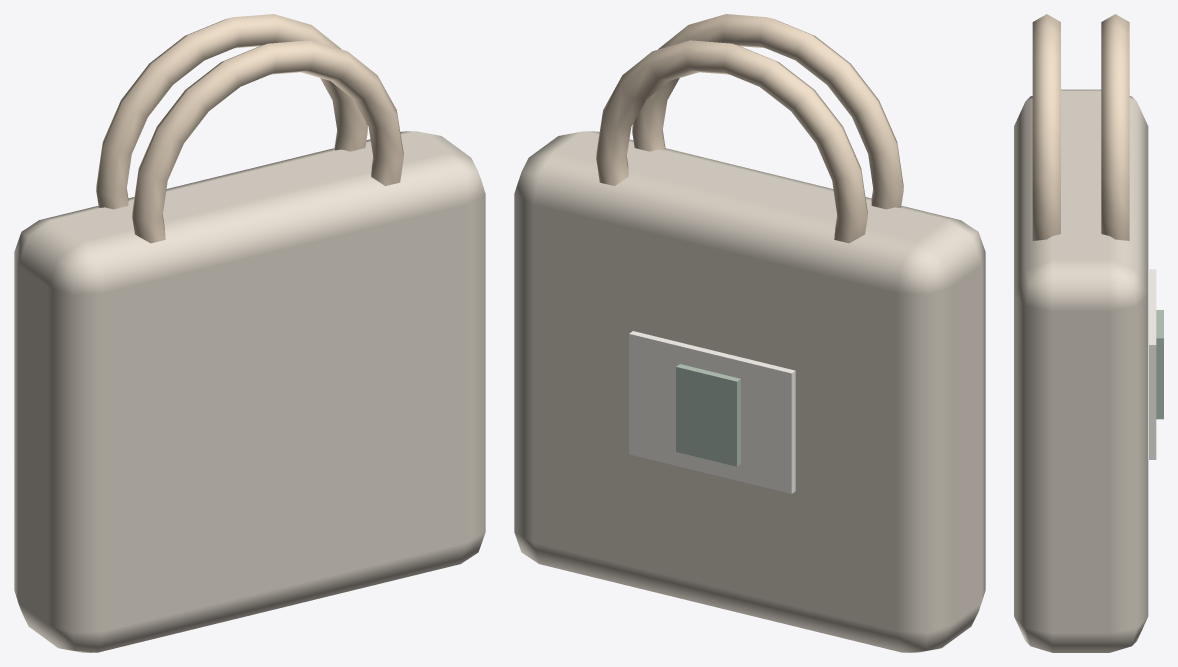
The model's file is tote.glb.
The picture shows the model from 3 angles, left to right: view 1: azimuth 30°, elevation 25°; view 2: azimuth 150°, elevation 25°; view 3: azimuth 270°, elevation 25°; orthographic projection. The views are drawn at different scales.
Parts seen in each view (by area): view 1: tote.material0, tote.material1; view 2: tote.material0, tote.material1, tote.material2, tote.material3; view 3: tote.material0, tote.material1, tote.material2, tote.material3.
Boxes of the visible parts, x1=… form: tote.material0: x1=14, y1=131, x2=485, y2=652; tote.material1: x1=96, y1=14, x2=403, y2=243; tote.material0: x1=514, y1=131, x2=985, y2=652; tote.material1: x1=596, y1=14, x2=903, y2=243; tote.material2: x1=629, y1=331, x2=795, y2=493; tote.material3: x1=676, y1=364, x2=740, y2=466; tote.material0: x1=1014, y1=89, x2=1148, y2=652; tote.material1: x1=1032, y1=14, x2=1129, y2=240; tote.material2: x1=1149, y1=269, x2=1156, y2=459; tote.material3: x1=1156, y1=310, x2=1163, y2=419.
Bounding box in the file's own units: 0.32 × 0.4 × 0.1005.
